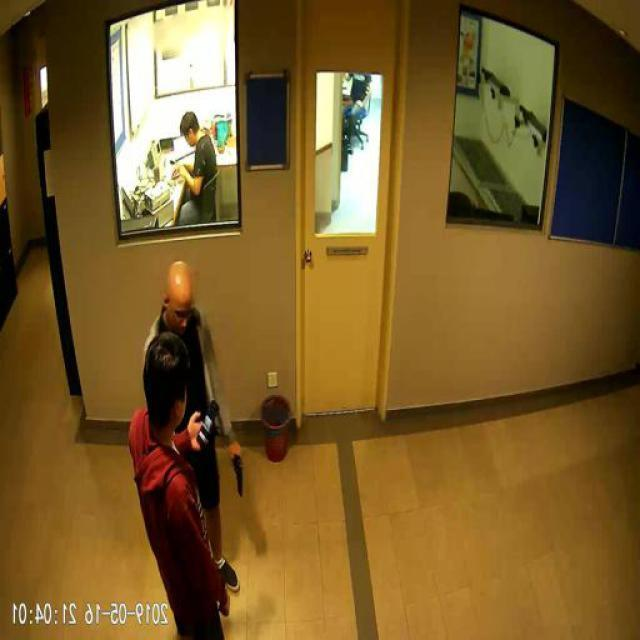weapon: (228, 452, 248, 498)
